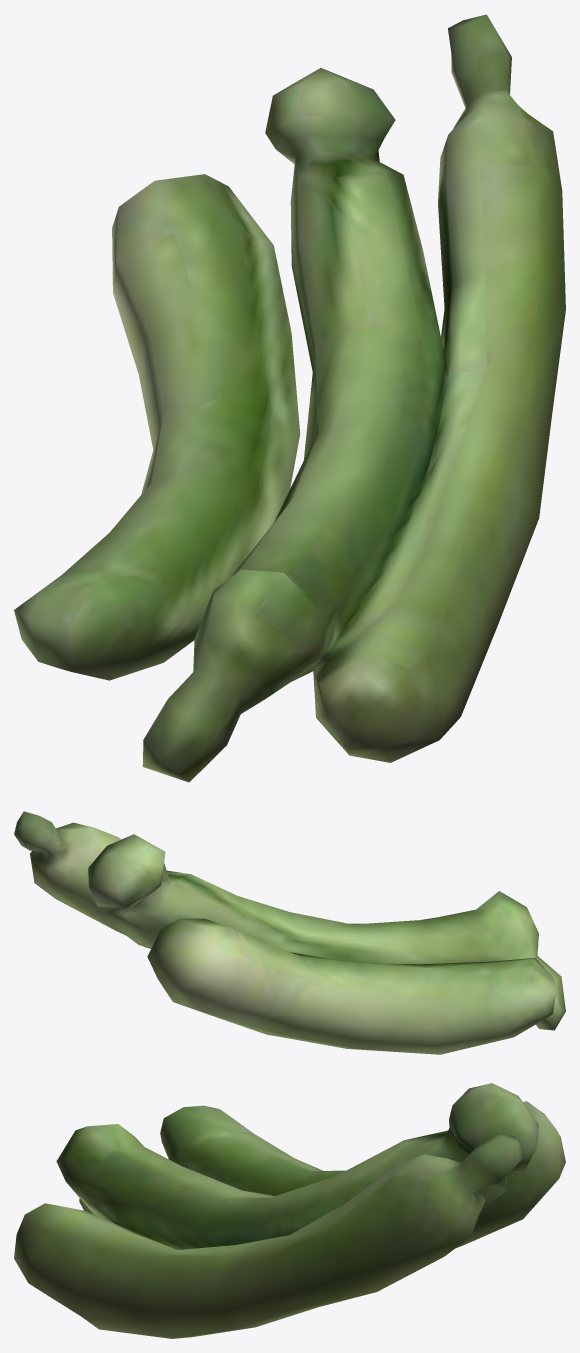
File: green-beans.glb
The picture shows the model from 3 angles, top to bottom: view 1: azimuth 30°, elevation 25°; view 2: azimuth 150°, elevation 25°; view 3: azimuth 270°, elevation 25°; orthographic projection. The views are drawn at different scales.
Parts seen in each view (by area): view 1: Green Beans; view 2: Green Beans; view 3: Green Beans.
Part boxes in pixels (left/top/right/bottom): Green Beans: left=14, top=14, right=565, bottom=782; Green Beans: left=14, top=811, right=565, bottom=1054; Green Beans: left=14, top=1083, right=565, bottom=1338.
Bounding box in the file's own units: 1.83 × 1.1 × 1.77.
Materials: 1 (1 with a texture image).
